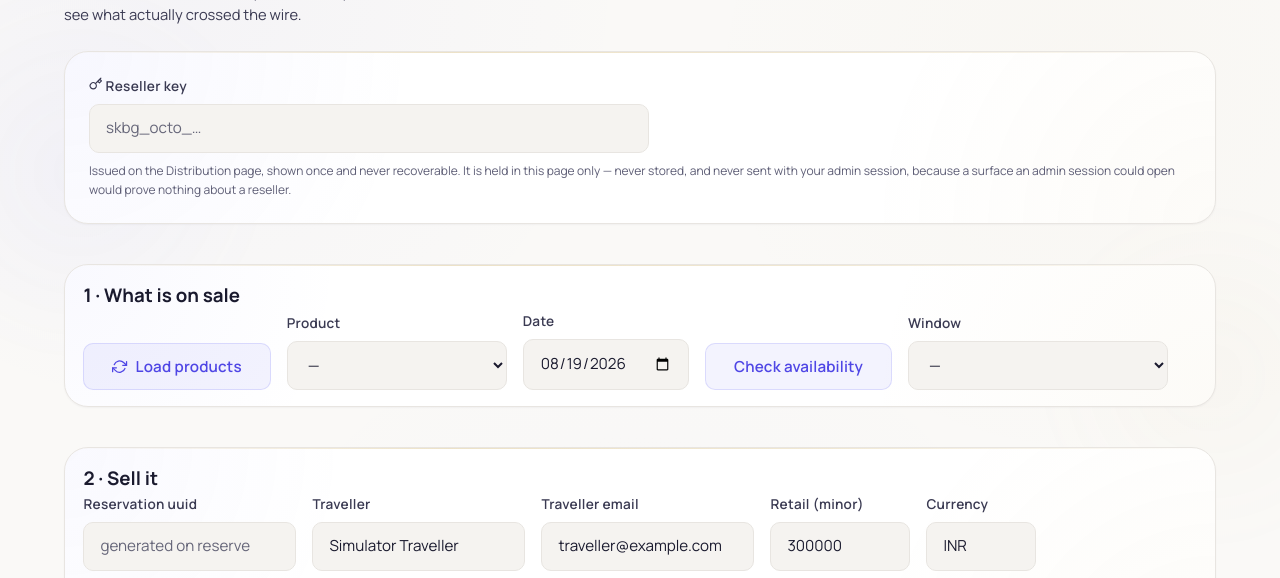
it: AdminChannelSimulator › surfaces the outcome the status endpoint reports
Type "skbg_octo_test" into the password field labelled "Reseller key" at [369, 128], box left=89, top=104, right=649, bottom=153
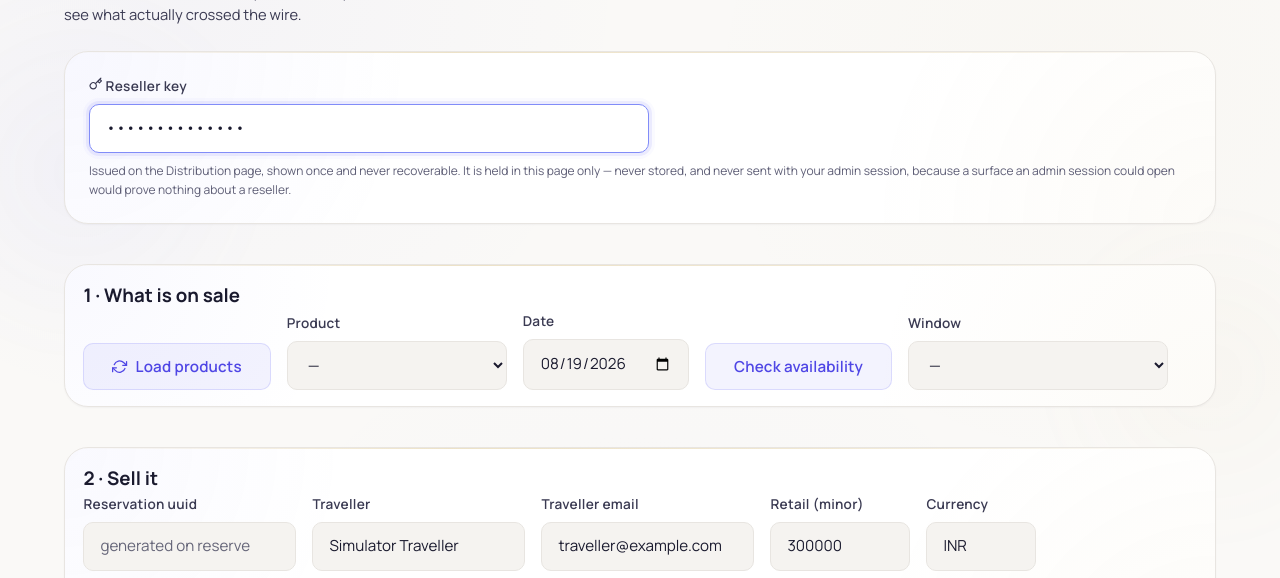
Type "SIM-1" into the field labelled "Reservation uuid" at [190, 546], box left=83, top=522, right=296, bottom=571
(page scrolled)
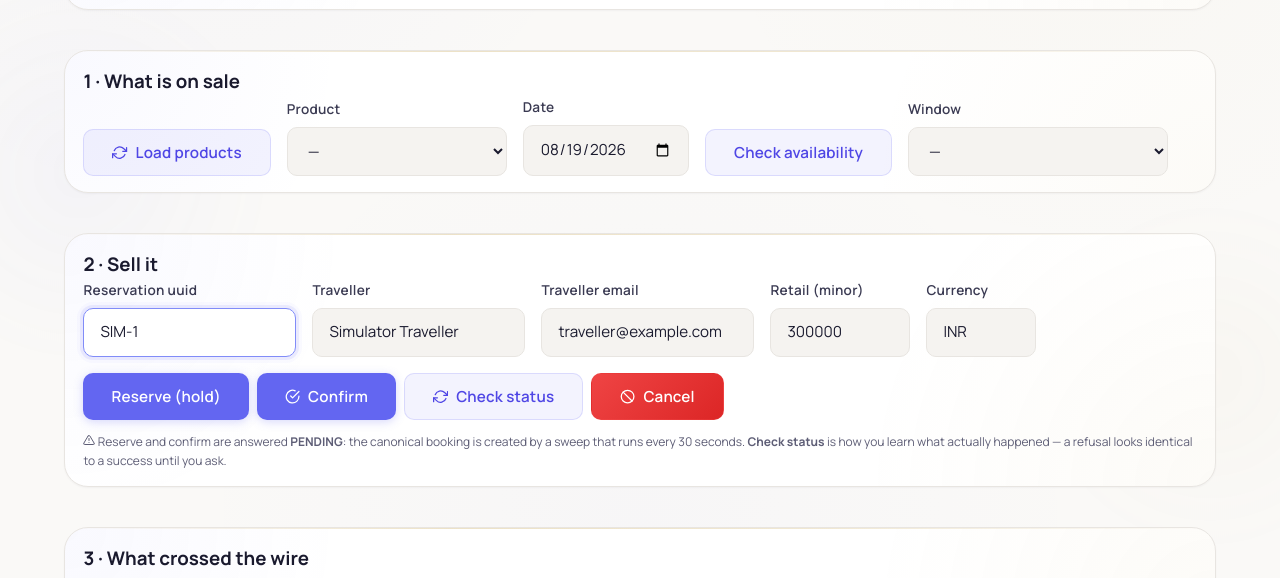
Click the button "Check status" at [494, 396], box left=404, top=373, right=583, bottom=420
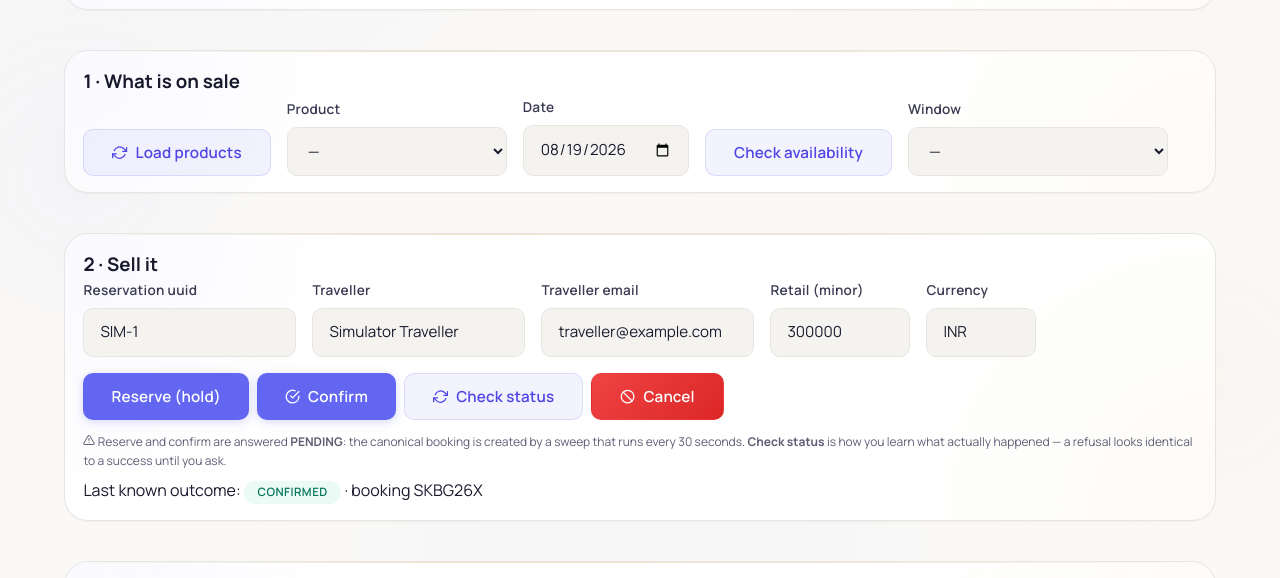
Check: the text "CONFIRMED" is shown, box left=244, top=480, right=341, bottom=504
Check: the text "Last known outcome: CONFIRMED · booking SKBG26X" is shown 2 times
